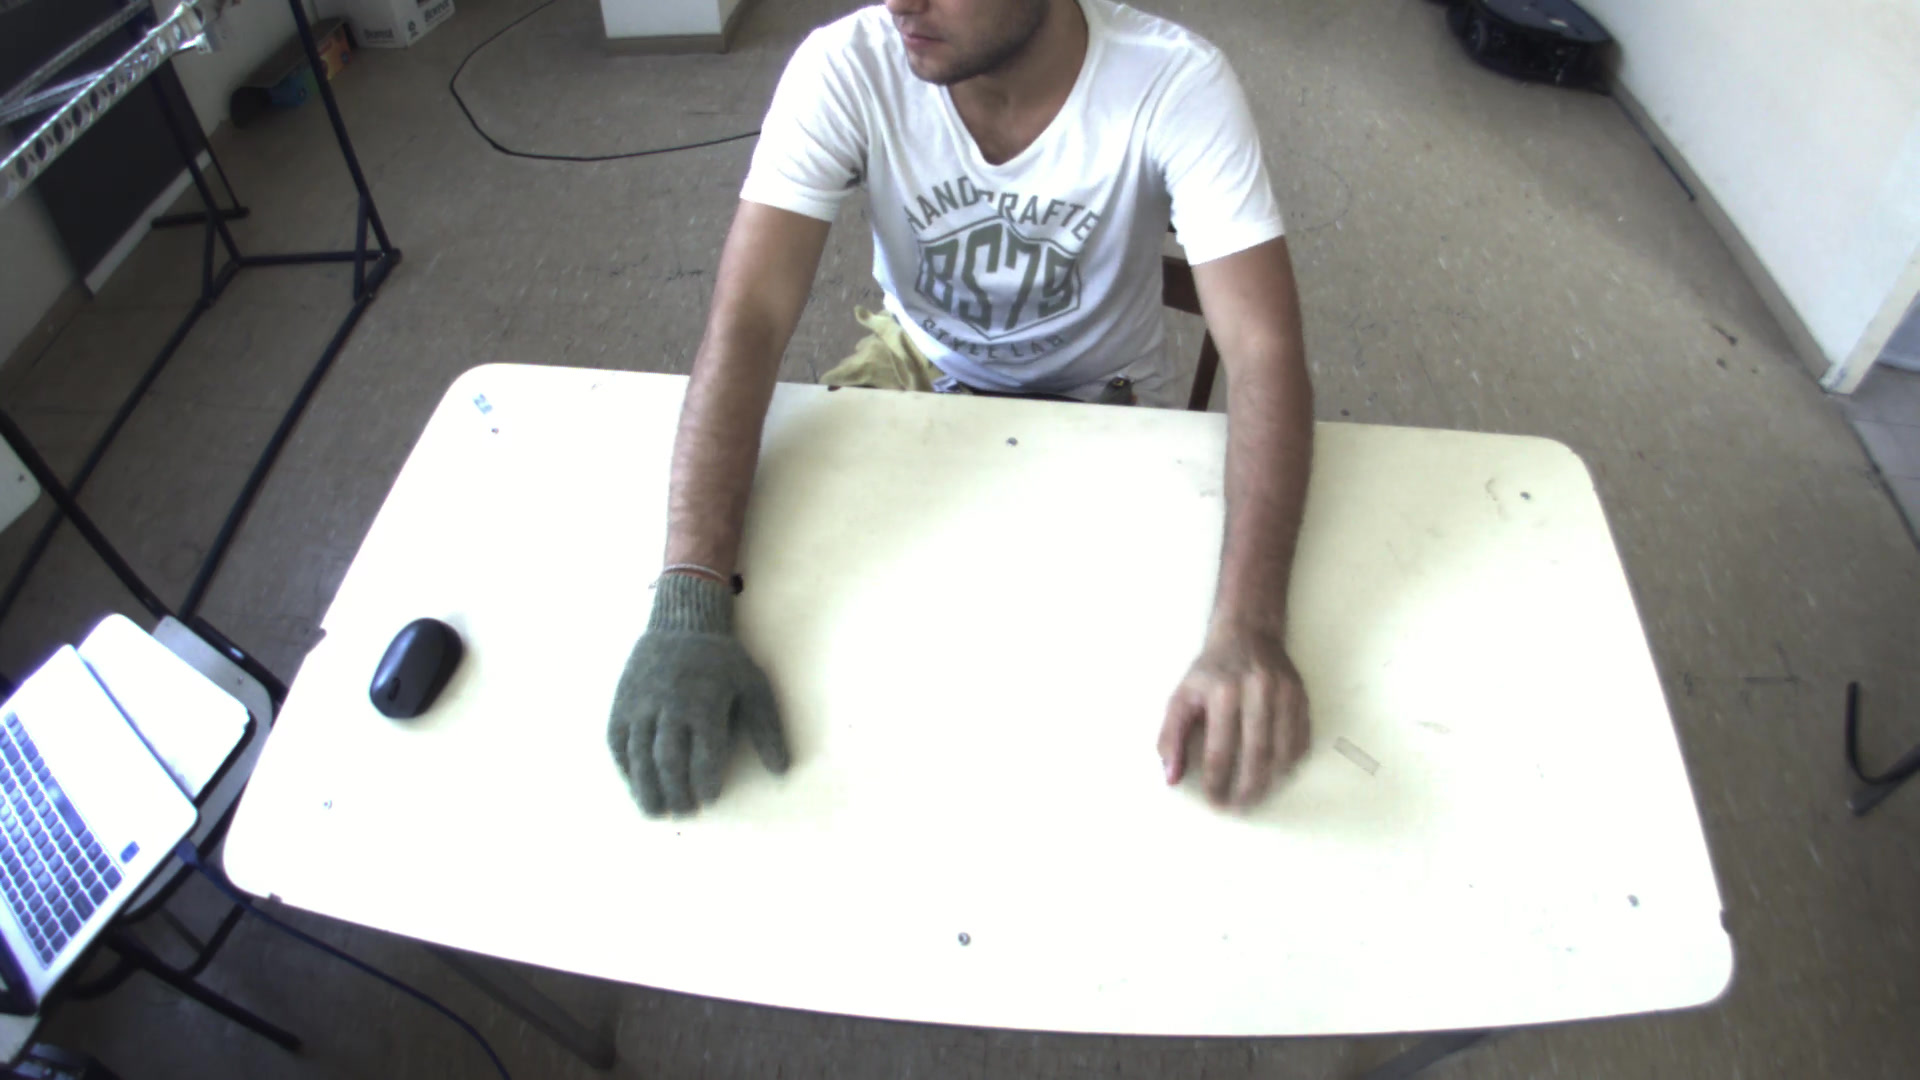hand: (588, 556, 800, 820), (1151, 608, 1331, 814)
